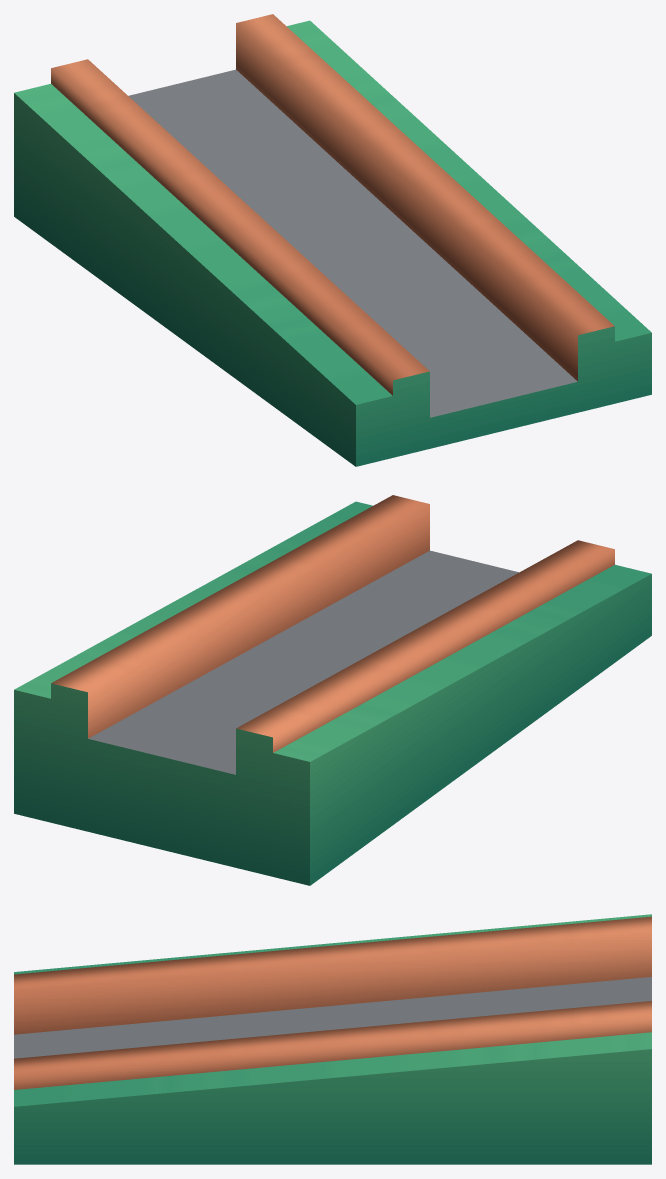
Rendered from tile-river-slope-large.fbx.
3 renders of one model, top to bottom at view 1: azimuth 30°, elevation 25°; view 2: azimuth 150°, elevation 25°; view 3: azimuth 270°, elevation 25°, orthographic. The views are drawn at different scales.
Parts seen in each view (by area): view 1: tile-river-slope-large; view 2: tile-river-slope-large; view 3: tile-river-slope-large.
Part boxes in pixels (x1,y1,x2,y2): tile-river-slope-large: [14, 14, 651, 466]; tile-river-slope-large: [14, 495, 651, 885]; tile-river-slope-large: [14, 914, 651, 1164].
Bounding box in the file's own units: 100 × 45 × 200.
